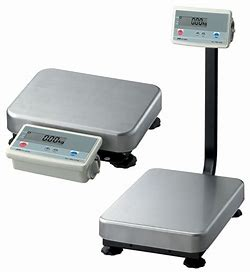Industrial Scale: (97, 4, 245, 268), (4, 65, 164, 186)
